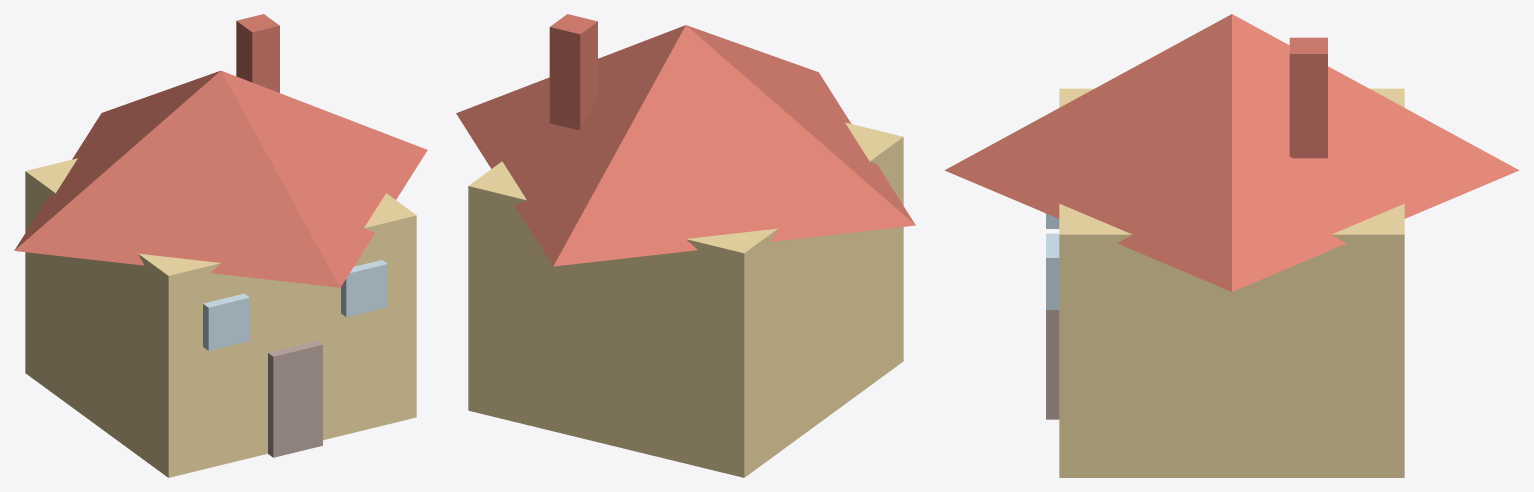
The model's file is Casa.fbx.
3 renders of one model, left to right at view 1: azimuth 30°, elevation 25°; view 2: azimuth 150°, elevation 25°; view 3: azimuth 270°, elevation 25°, orthographic. The views are drawn at different scales.
Parts seen in each view (by area): view 1: Casa; view 2: Casa; view 3: Casa.
Part boxes in pixels (x1,y1,x2,y2): Casa: (14,14,427,477); Casa: (456,14,915,477); Casa: (944,14,1519,477).
Bounding box in the file's own units: 150 × 115 × 150.
